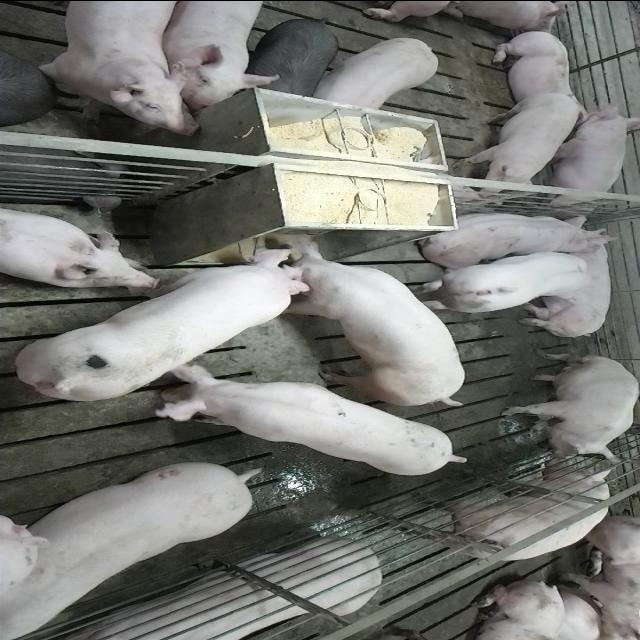Feeding: (14, 247, 314, 408), (258, 224, 471, 400)
Lateral_lying: (519, 225, 623, 337)
Sitting: (497, 354, 637, 464), (542, 103, 640, 205)
Standing: (6, 456, 264, 634), (150, 364, 474, 472), (30, 1, 198, 136), (404, 459, 612, 558), (158, 3, 278, 111), (452, 95, 578, 197), (406, 250, 592, 314), (314, 36, 444, 110), (244, 16, 338, 100), (2, 38, 60, 123)
Sternal_lying: (44, 540, 378, 640), (0, 201, 159, 287), (482, 26, 590, 128)
